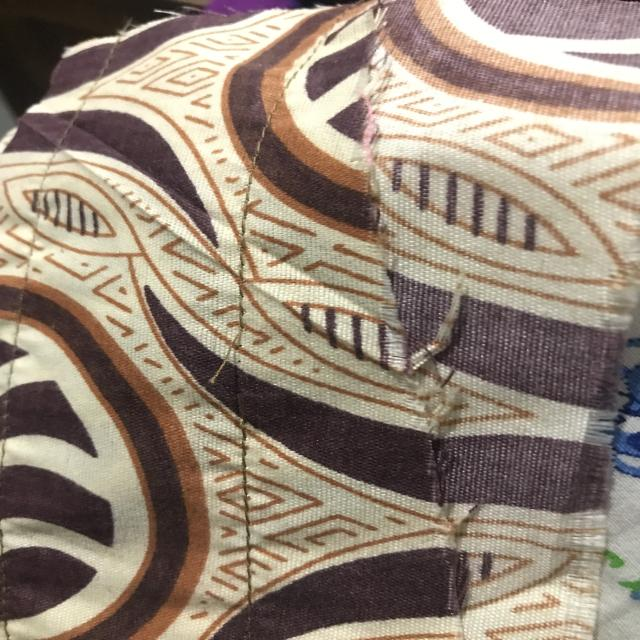broken: (204, 314, 260, 430)
good: (234, 173, 257, 256)
